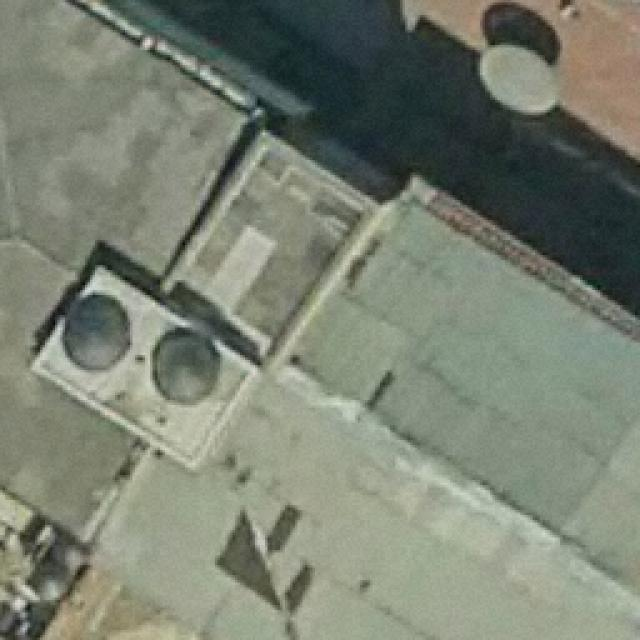vendedor_ambulante: (473, 32, 565, 119)
